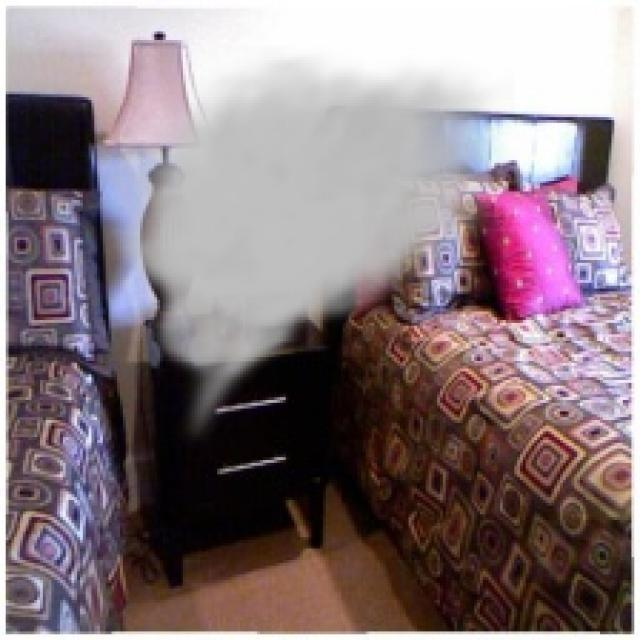Smoke: (102, 46, 514, 448)
